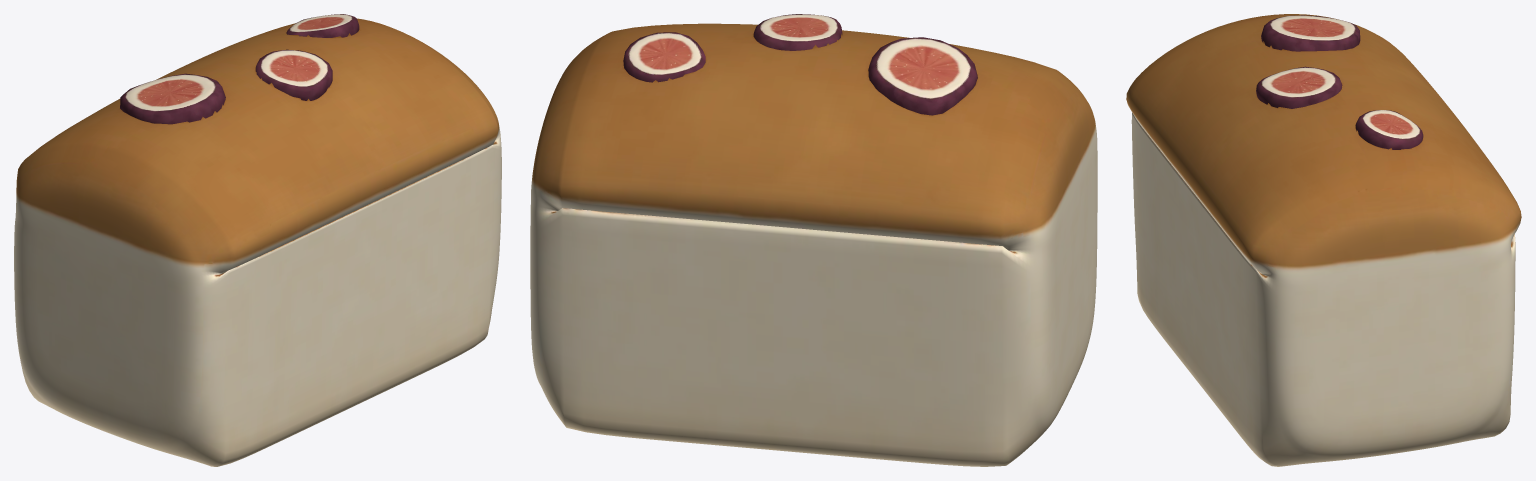
Rendered from loaf--fig-jam.glb.
3 views of the same model, side by side, from view 1: azimuth 30°, elevation 25°; view 2: azimuth 150°, elevation 25°; view 3: azimuth 270°, elevation 25° (orthographic). The views are drawn at different scales.
Parts seen in each view (by area): view 1: loaf_fig-jam; view 2: loaf_fig-jam; view 3: loaf_fig-jam.
Part boxes in pixels (bbox=[...]): loaf_fig-jam: bbox=[14, 14, 501, 466]; loaf_fig-jam: bbox=[530, 14, 1097, 466]; loaf_fig-jam: bbox=[1126, 14, 1521, 466].
Size of the model in its own units: 1.09 by 0.7398 by 0.8491.
1 material, 1 textured.
